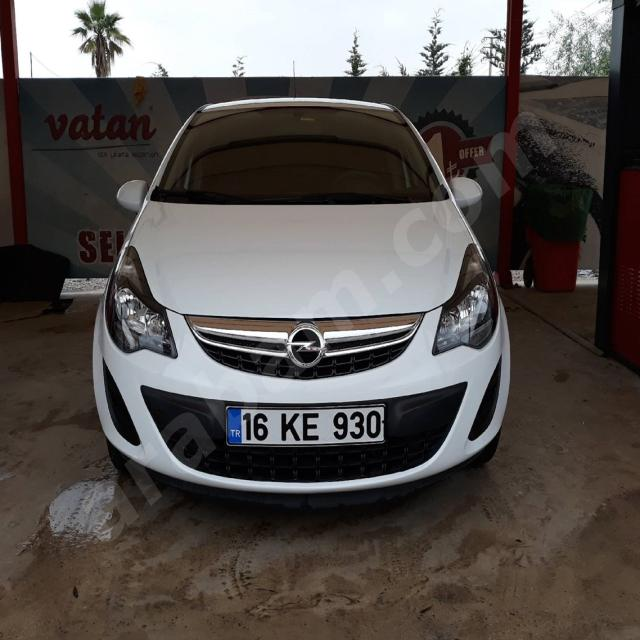license_plate: (224, 405, 386, 446)
